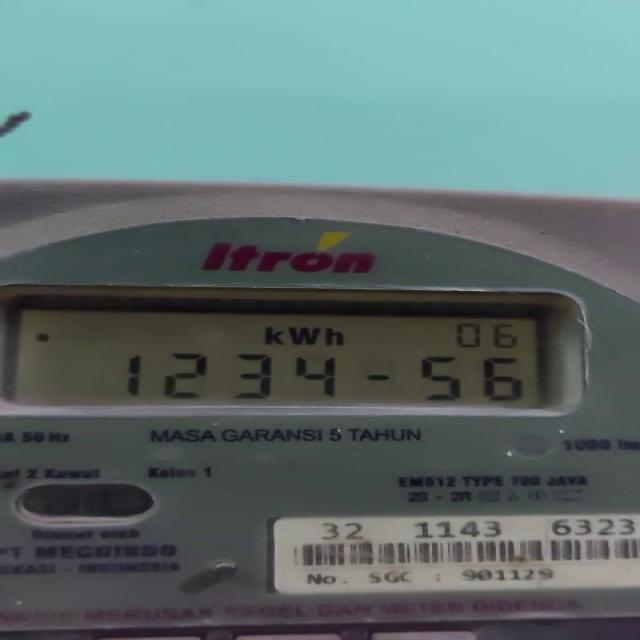LCD: (4, 290, 582, 417)
